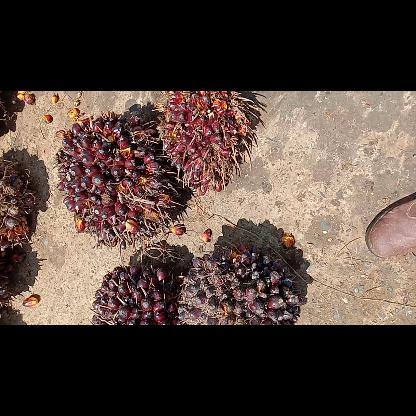Kurang masak: (57, 112, 183, 260), (153, 90, 257, 194), (178, 244, 302, 324), (90, 264, 180, 324)
